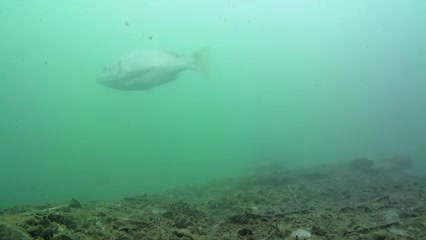smallfish: (94, 47, 187, 89)
